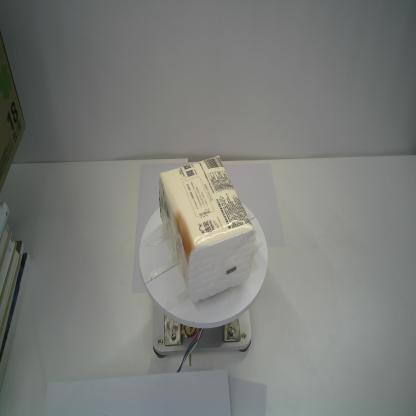Tissue: (158, 154, 256, 304)
